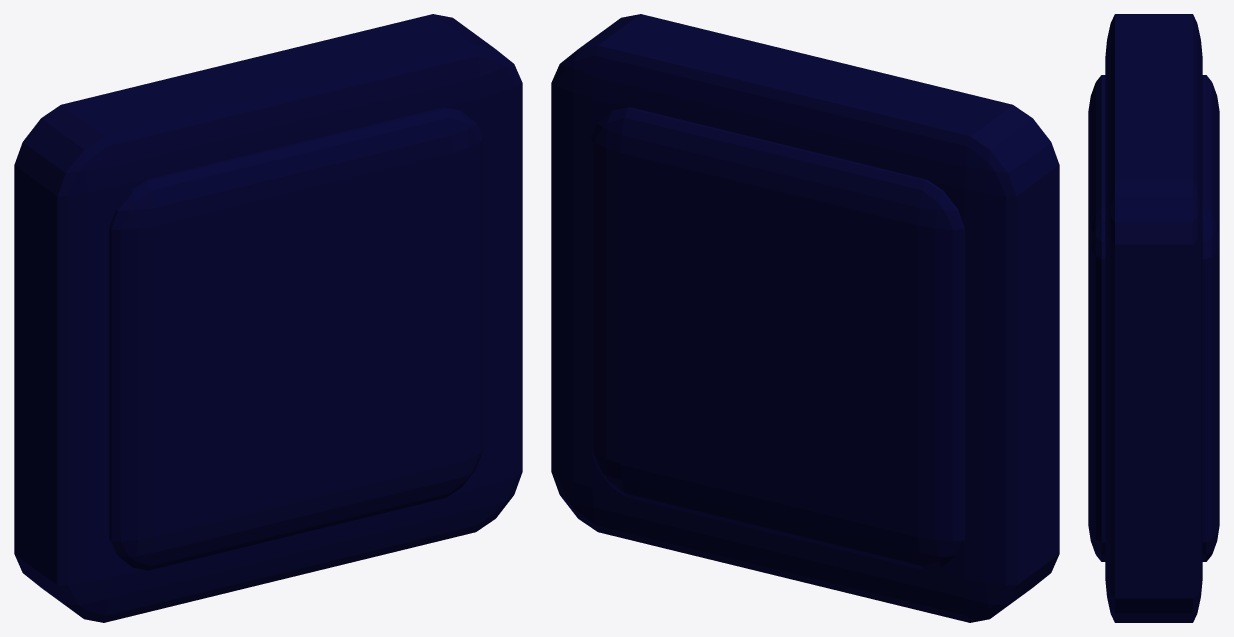
File: itemblockblend.fbx
3 views of the same model, side by side, from view 1: azimuth 30°, elevation 25°; view 2: azimuth 150°, elevation 25°; view 3: azimuth 270°, elevation 25° (orthographic). The views are drawn at different scales.
Parts seen in each view (by area): view 1: ItemImage, ItemPocket; view 2: ItemImage, ItemPocket; view 3: ItemPocket, ItemImage.
Boxes of the visible parts, x1=… form: ItemImage: x1=109, y1=107, x2=483, y2=570; ItemPocket: x1=14, y1=14, x2=522, y2=622; ItemImage: x1=590, y1=107, x2=964, y2=570; ItemPocket: x1=551, y1=14, x2=1059, y2=622; ItemPocket: x1=1105, y1=14, x2=1202, y2=622; ItemImage: x1=1088, y1=75, x2=1219, y2=561.
Bounding box in the file's own units: 200 × 200 × 53.76.
